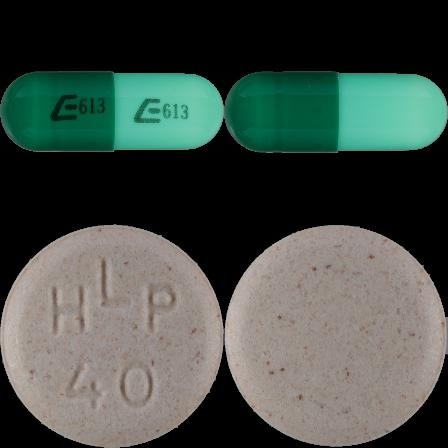0615-7860: (0, 0, 224, 224)
